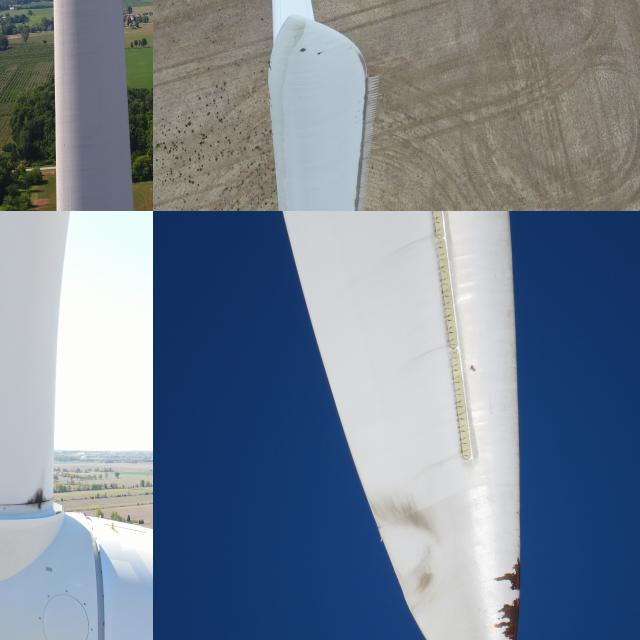damage: (482, 549, 533, 639), (17, 472, 55, 518), (267, 86, 273, 110), (268, 52, 275, 72), (318, 49, 322, 58)
